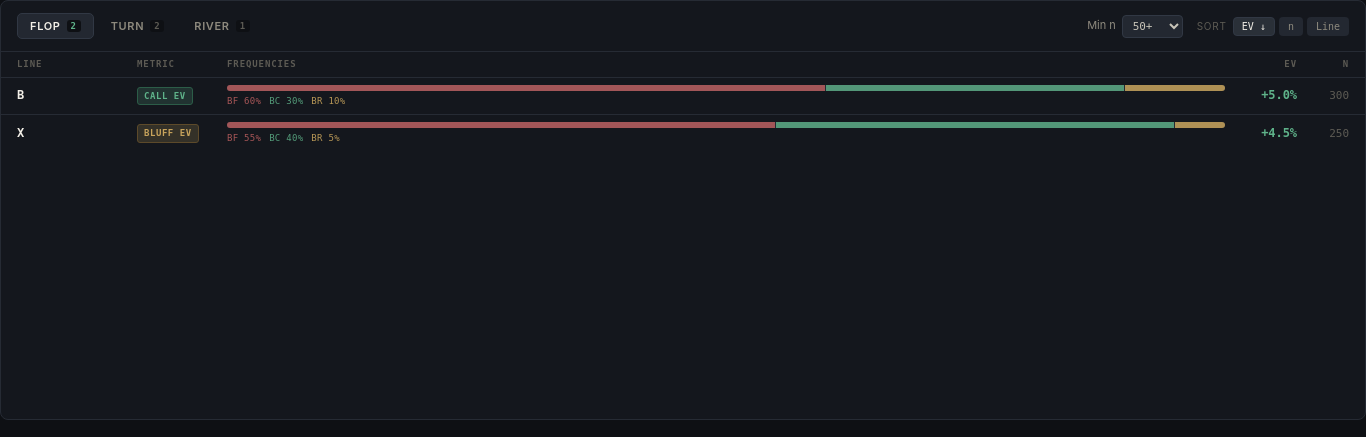
Scenario: LineExplorer — row rendering › hides sub-minSample rows on default Min n=50
This screenshot has width=1366, height=437.
What coordinates should you click on to do the following:
click the button "Turn 2"
I would click on:
 (138, 26)
Its box is [98,13,177,39].
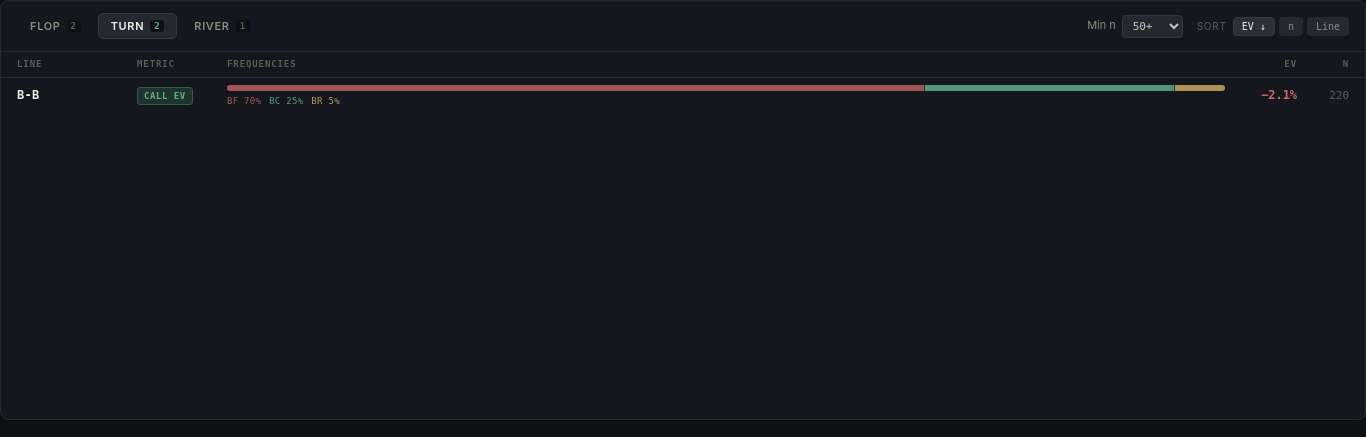
Result: the text "B-B" is shown at [17,88,39,104]
